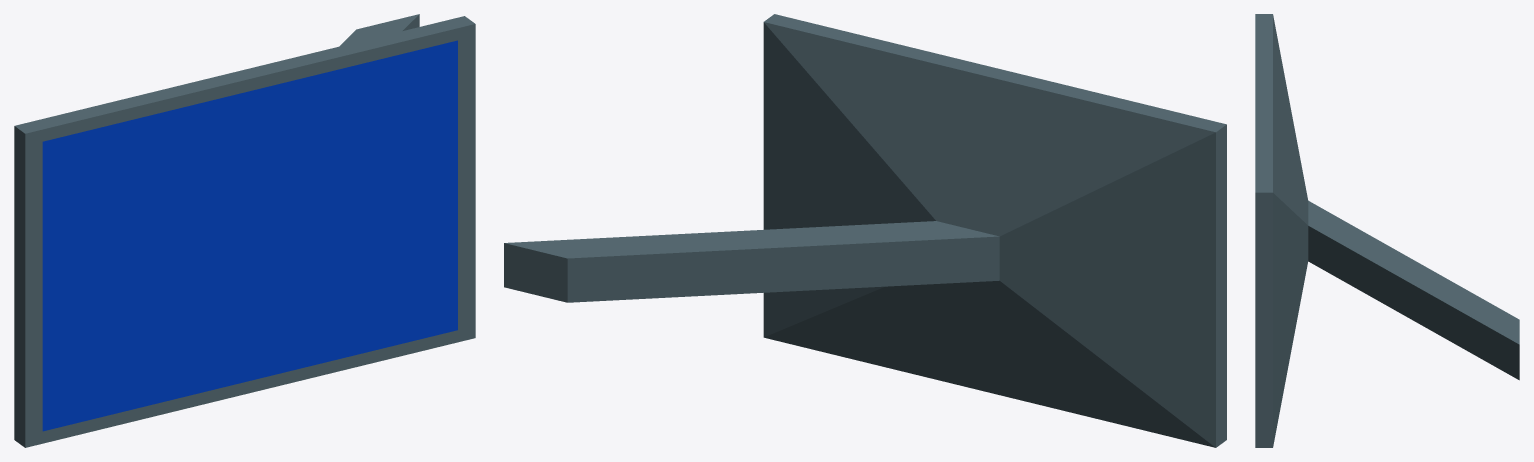
Rendered from SmallScreenL.fbx.
3 renders of one model, left to right at view 1: azimuth 30°, elevation 25°; view 2: azimuth 150°, elevation 25°; view 3: azimuth 270°, elevation 25°, orthographic. The views are drawn at different scales.
Parts seen in each view (by area): view 1: SmallScreenL; view 2: SmallScreenL; view 3: SmallScreenL.
Part boxes in pixels (x1,y1,x2,y2): SmallScreenL: (14, 14, 475, 447); SmallScreenL: (504, 14, 1226, 447); SmallScreenL: (1255, 14, 1519, 447).
Bounding box in the file's own units: 371 × 200 × 188.
